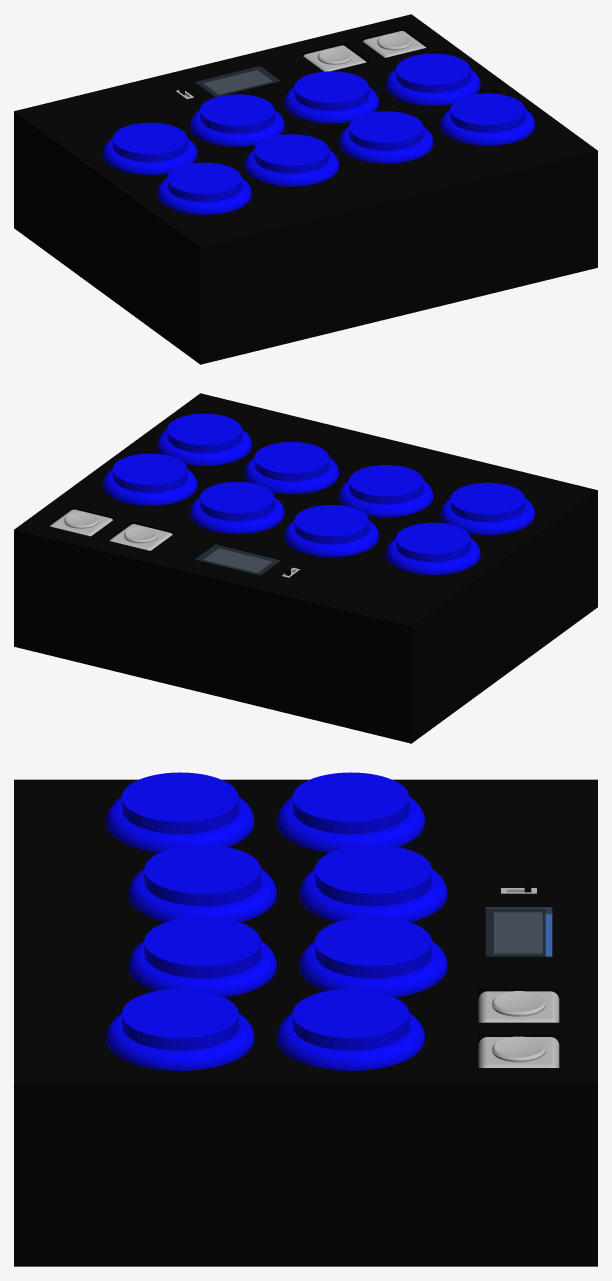
The model's file is OpenArcadeAssy_v2.glb.
3 views of the same model, one above another, from view 1: azimuth 30°, elevation 25°; view 2: azimuth 150°, elevation 25°; view 3: azimuth 270°, elevation 25° (orthographic). The views are drawn at different scales.
Visible parts, largest first — view 1: Solid1 (×21); view 2: Solid1 (×21); view 3: Solid1 (×21).
Boxes of the visible parts, <box> form: Solid1 (×21): <box>14,14,597,364</box>; Solid1 (×21): <box>14,393,597,743</box>; Solid1 (×21): <box>14,772,597,1266</box>.
Size of the model in its own units: 0.16 by 0.0514 by 0.13.
